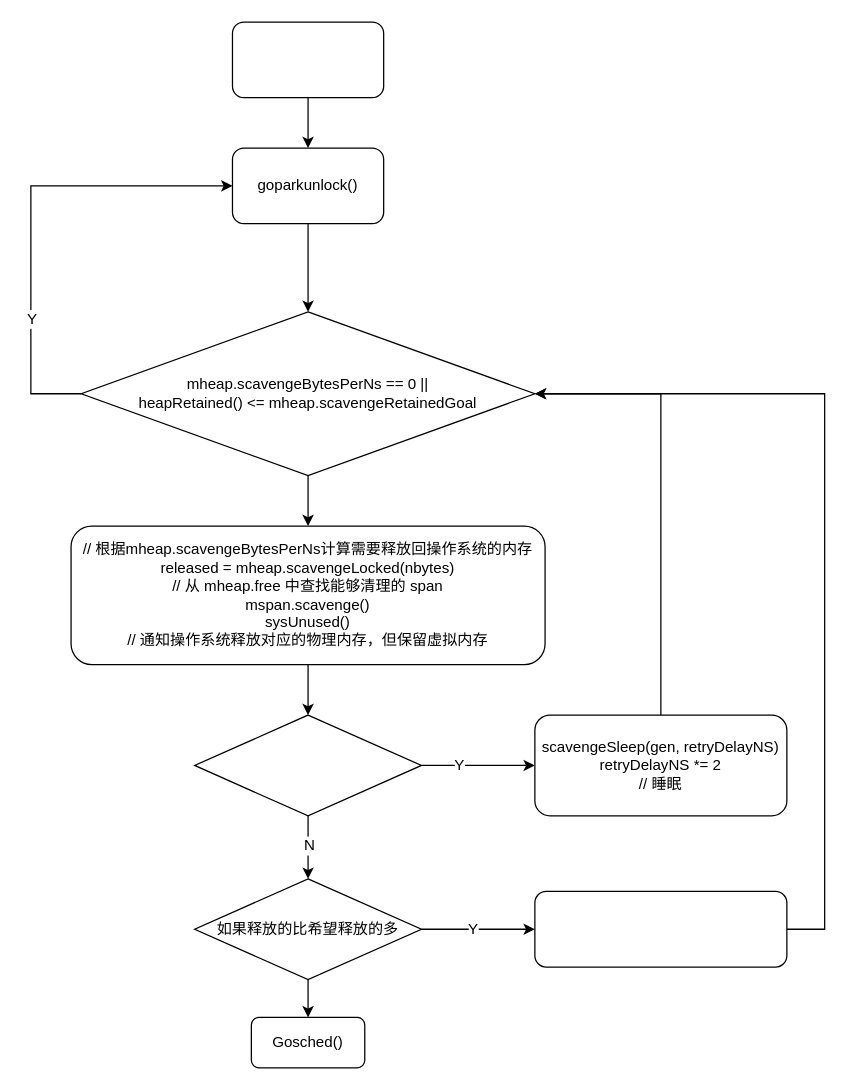
The diagram is 857 pixels wide and 1090 high, and some of its shapes have lost their labels. The shapes that lost their labels are listed below. From the top down, each one's centre as x and y in pixels, then its label:
(x=307, y=59): bgscavenge()
(x=307, y=765): released == 0
(x=660, y=928): scavengeSleep(gen, ttnext) // 睡眠一段时间，我们不希望在这段时间里再做释放内存的操作
